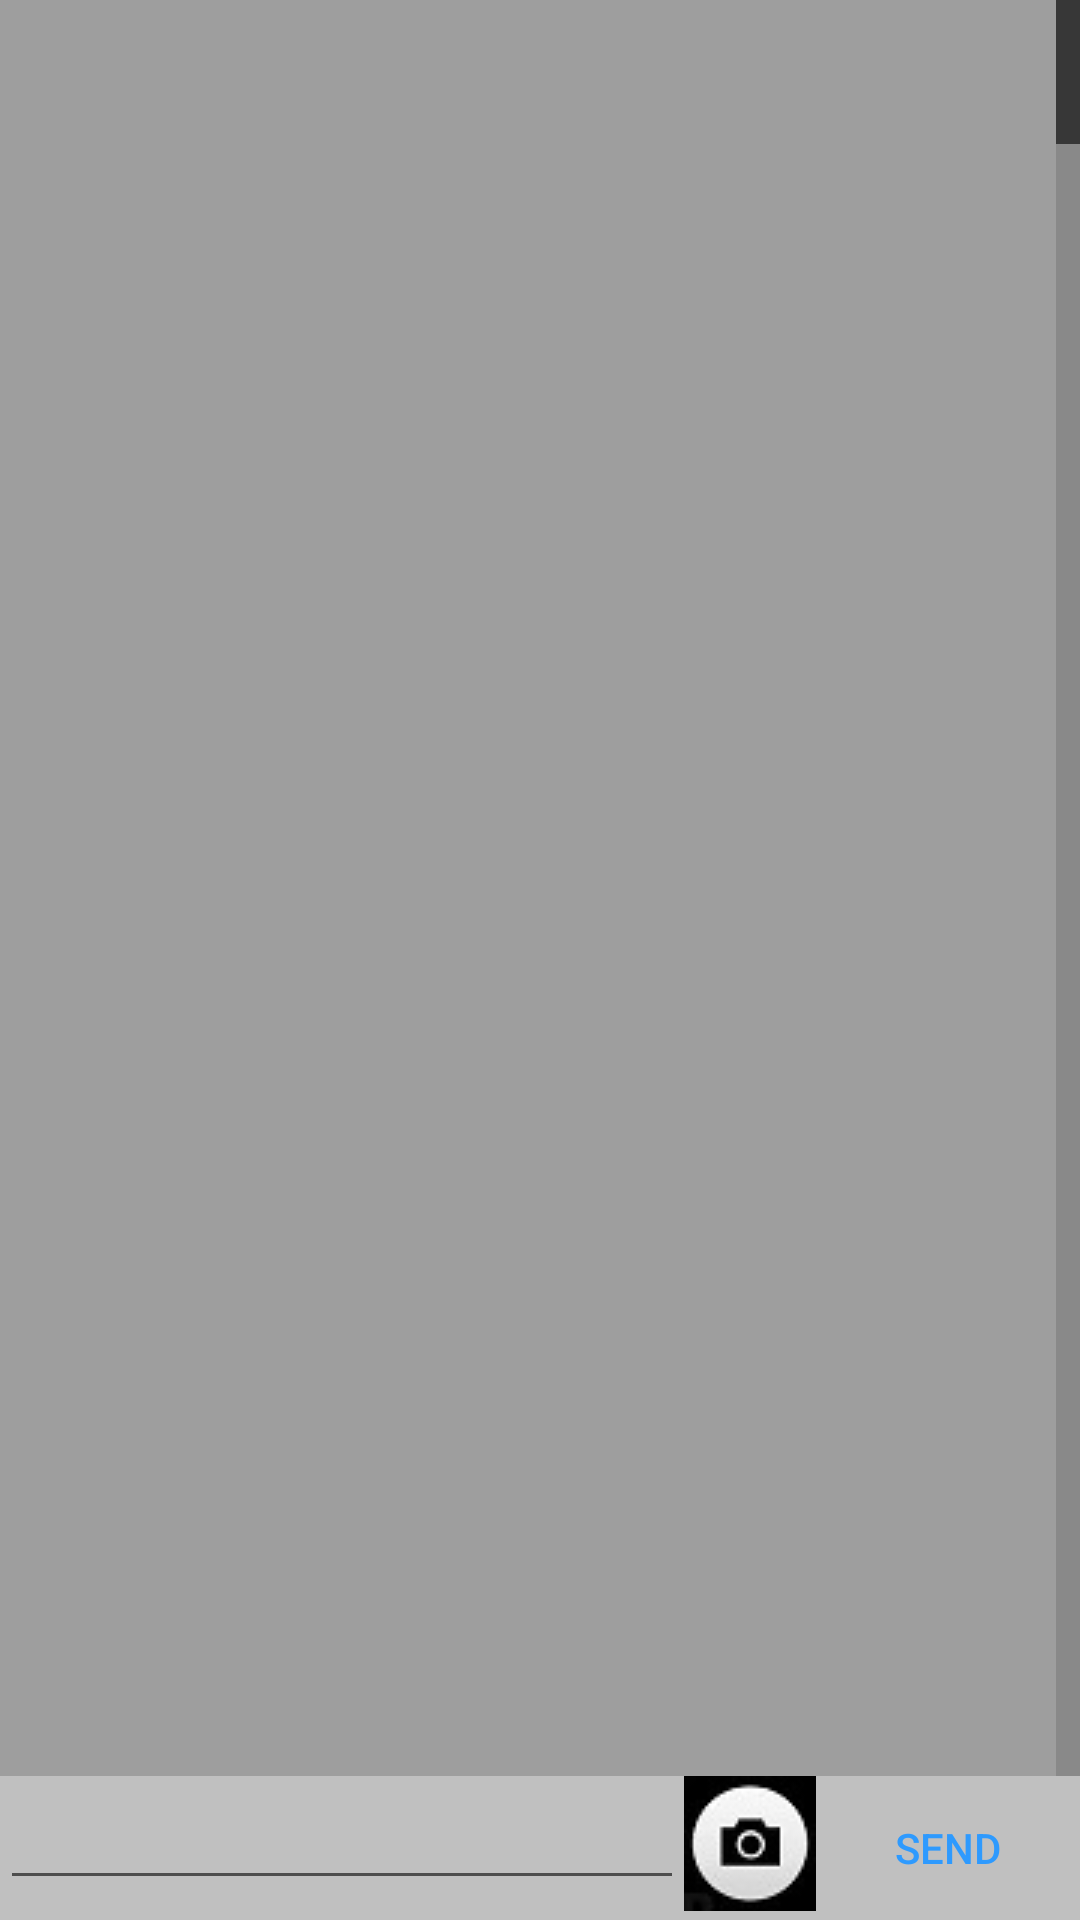

Icons on this 1080×1920 Android screen, each with the point to tap as point (x, y):
camera: point (750, 1843)
